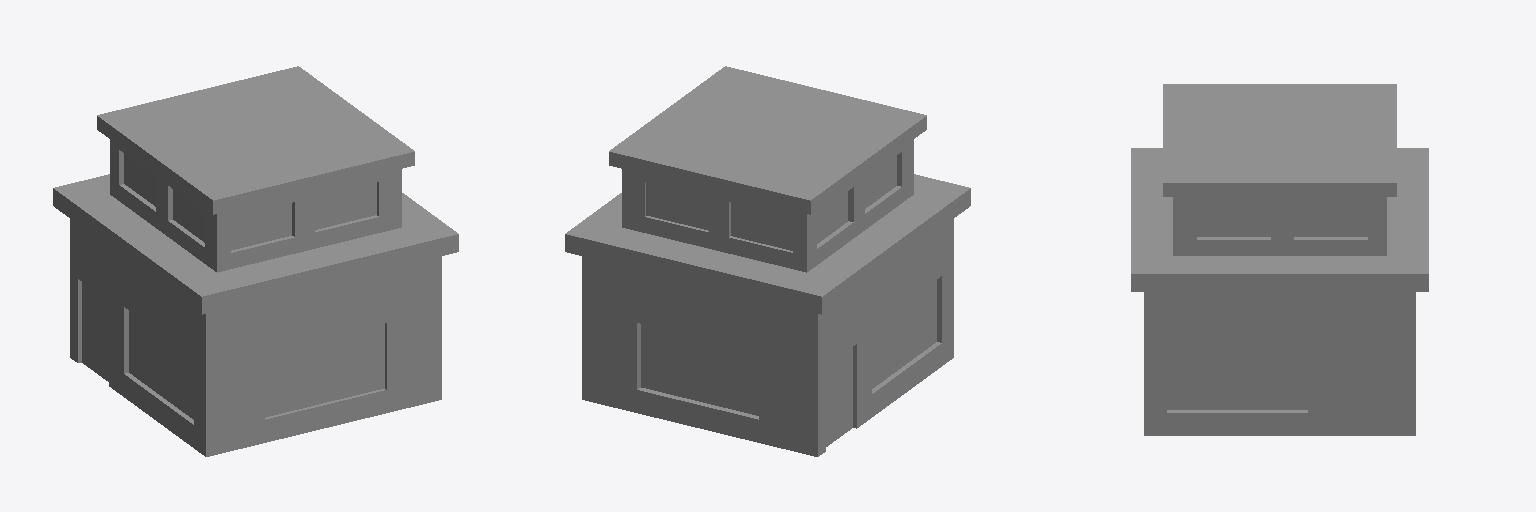
The model's file is HouseWithFlatRoof.obj.
The picture shows the model from 3 angles: view 1: azimuth 30°, elevation 25°; view 2: azimuth 150°, elevation 25°; view 3: azimuth 270°, elevation 25°; orthographic projection.
Parts seen in each view (by area): view 1: Cube_Cube.003; view 2: Cube_Cube.003; view 3: Cube_Cube.003.
Boxes of the visible parts, x1,y1,x2,y2 form: Cube_Cube.003: [53, 66, 458, 456]; Cube_Cube.003: [565, 66, 970, 456]; Cube_Cube.003: [1131, 84, 1428, 435].
Size of the model in its own units: 2.18 by 1.99 by 2.18.